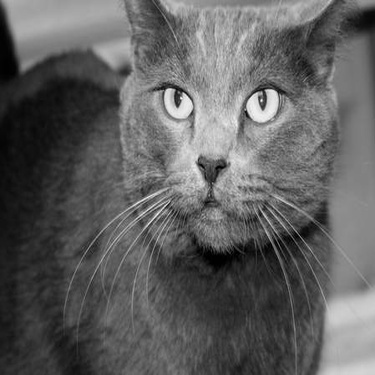cat: (10, 2, 349, 372)
